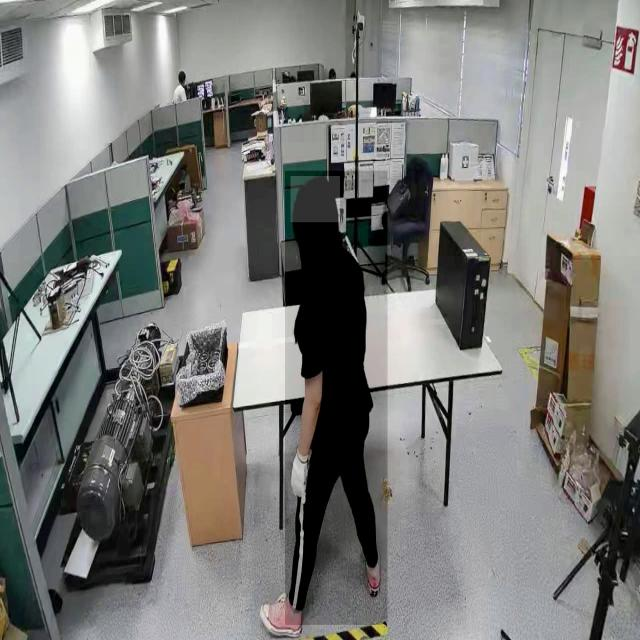hand_glove: (285, 449, 311, 514)
head_nohelmet: (290, 176, 340, 223), (178, 70, 186, 78)
person: (284, 170, 388, 626)
shoes: (258, 582, 304, 637), (360, 538, 385, 600)
